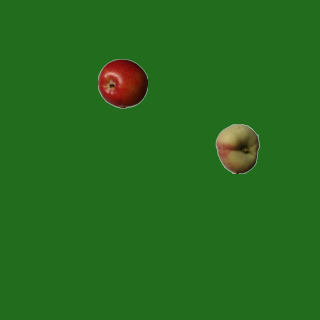Apple Braeburn: (97, 58, 147, 108)
Peach Flat: (212, 123, 262, 173)
